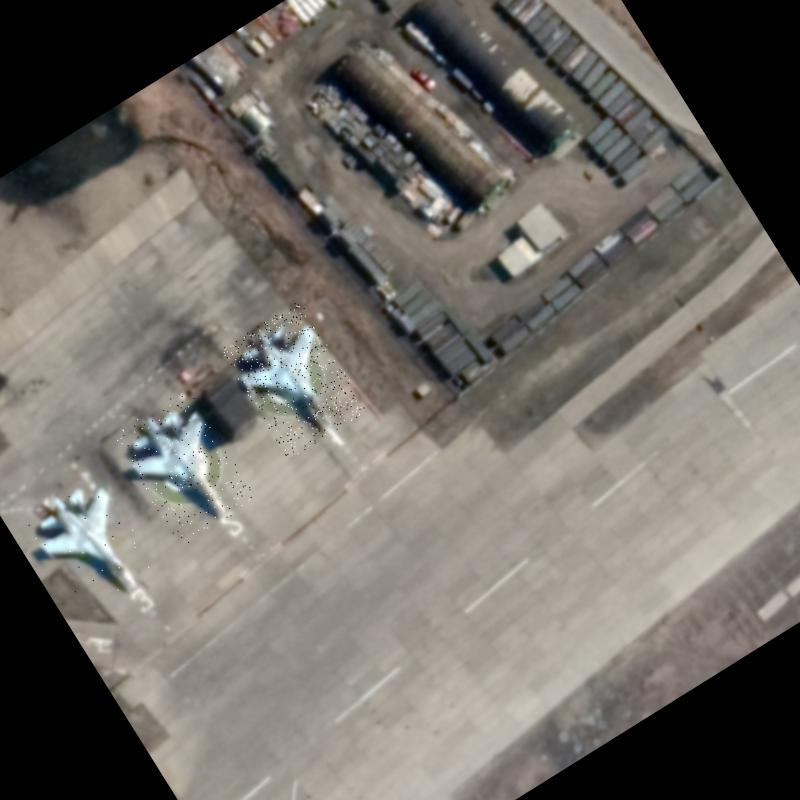A1: (220, 300, 369, 460), (110, 387, 258, 548), (18, 464, 162, 620)
